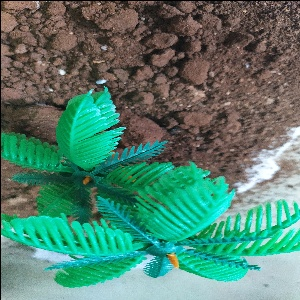plant: (1, 83, 300, 292)
